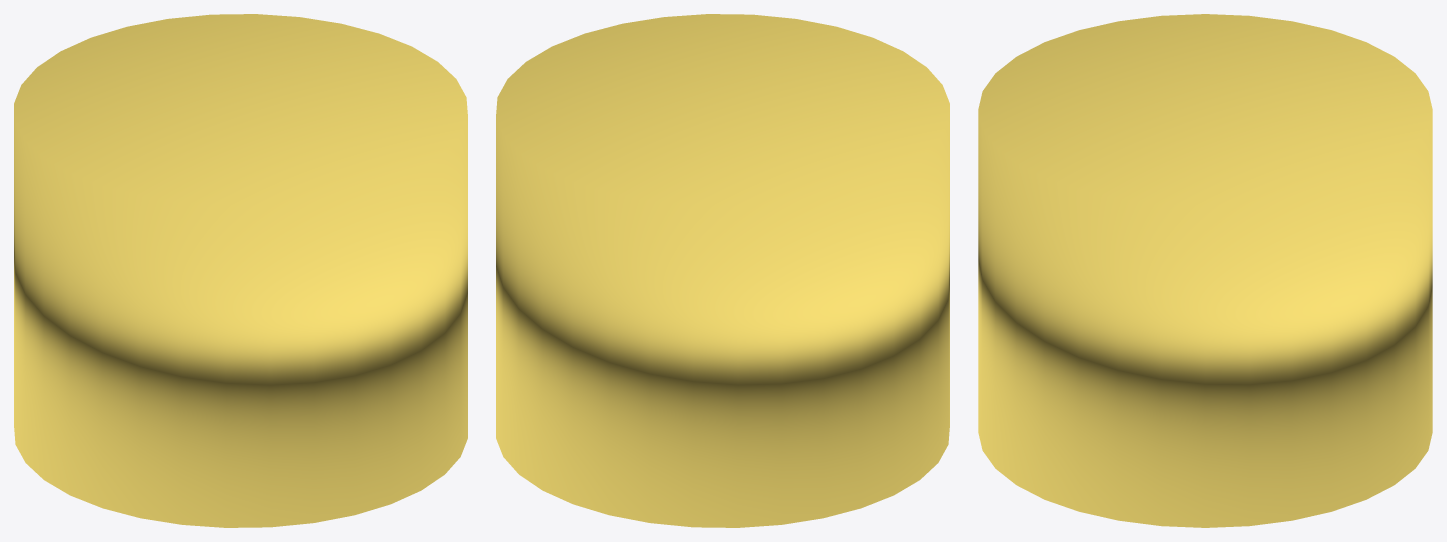
File: GT3_Brake_Bias_Adjuster_Knob.glb
The picture shows the model from 3 angles, left to right: view 1: azimuth 30°, elevation 25°; view 2: azimuth 150°, elevation 25°; view 3: azimuth 270°, elevation 25°; orthographic projection.
Visible parts, largest first — view 1: GT3_Brake_Bias_Adjuster_Knob; view 2: GT3_Brake_Bias_Adjuster_Knob; view 3: GT3_Brake_Bias_Adjuster_Knob.
Part boxes in pixels (bbox=[...]): GT3_Brake_Bias_Adjuster_Knob: bbox=[14, 14, 467, 527]; GT3_Brake_Bias_Adjuster_Knob: bbox=[496, 14, 949, 527]; GT3_Brake_Bias_Adjuster_Knob: bbox=[978, 14, 1432, 527].
Bounding box in the file's own units: 0.032 × 0.025 × 0.032.
